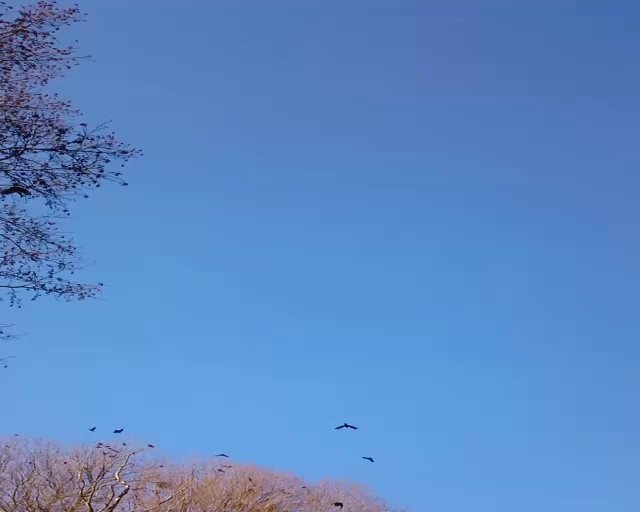BIRD: (334, 422, 358, 430)
